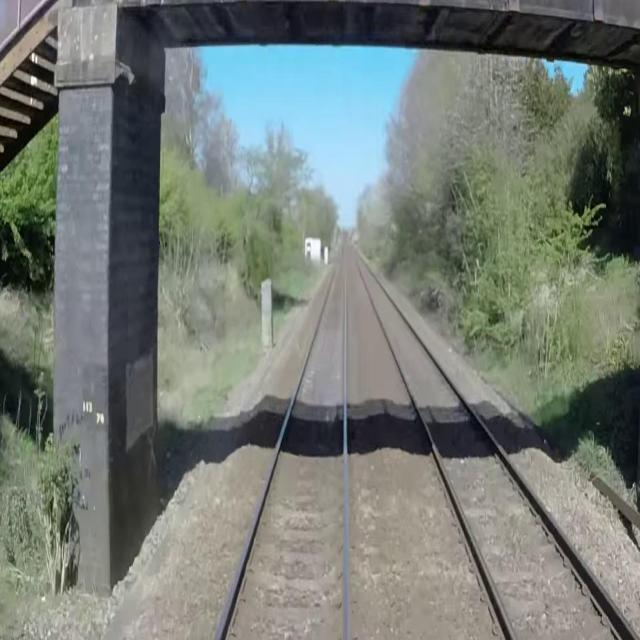rail-track: (220, 245, 344, 639)
